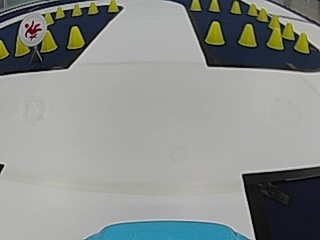cone: (205, 20, 225, 45), (238, 22, 257, 47), (66, 25, 84, 49), (267, 26, 283, 50), (294, 31, 309, 54), (41, 32, 57, 52), (15, 37, 28, 56), (283, 21, 294, 40), (230, 0, 241, 15), (257, 6, 267, 22), (0, 39, 8, 59), (208, 0, 220, 13), (54, 6, 65, 19), (88, 1, 98, 15), (72, 3, 82, 17), (107, 0, 118, 12), (189, 0, 201, 11), (44, 12, 54, 25), (248, 2, 257, 16)
tumble: (21, 15, 45, 42)
